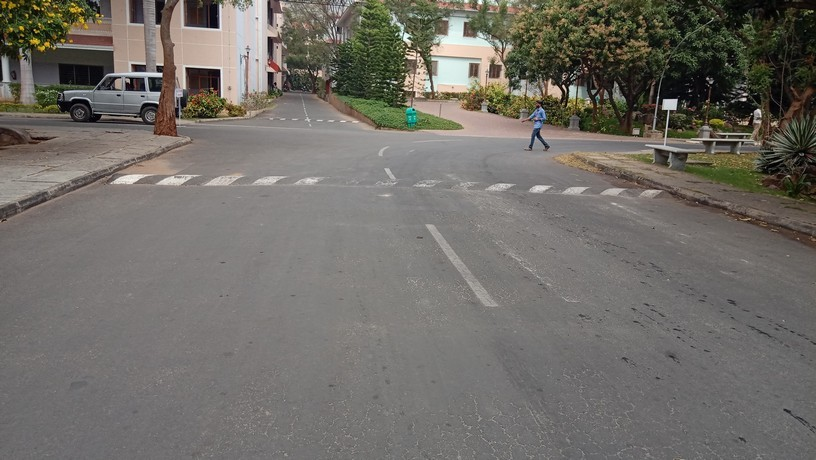bump: (105, 170, 673, 199)
